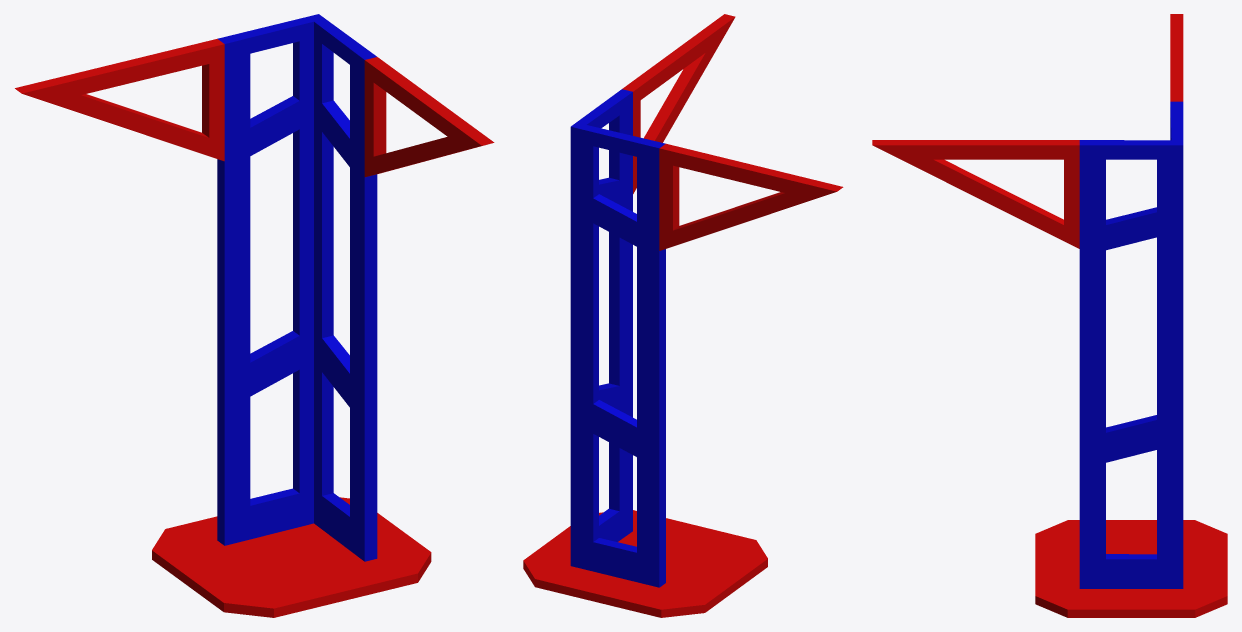
The model's file is SM0036_Scifi_HangarSupport_01.fbx.
The picture shows the model from 3 angles, left to right: view 1: azimuth 30°, elevation 25°; view 2: azimuth 150°, elevation 25°; view 3: azimuth 270°, elevation 25°; orthographic projection. The views are drawn at different scales.
Visible parts, largest first — view 1: SM0036_Scifi_HangarSupport_01; view 2: SM0036_Scifi_HangarSupport_01; view 3: SM0036_Scifi_HangarSupport_01.
Boxes of the visible parts, left/top/right/bottom form: SM0036_Scifi_HangarSupport_01: left=15, top=14, right=494, bottom=617; SM0036_Scifi_HangarSupport_01: left=523, top=14, right=843, bottom=617; SM0036_Scifi_HangarSupport_01: left=872, top=14, right=1227, bottom=617.
Bounding box in the file's own units: 229 × 319 × 227.
